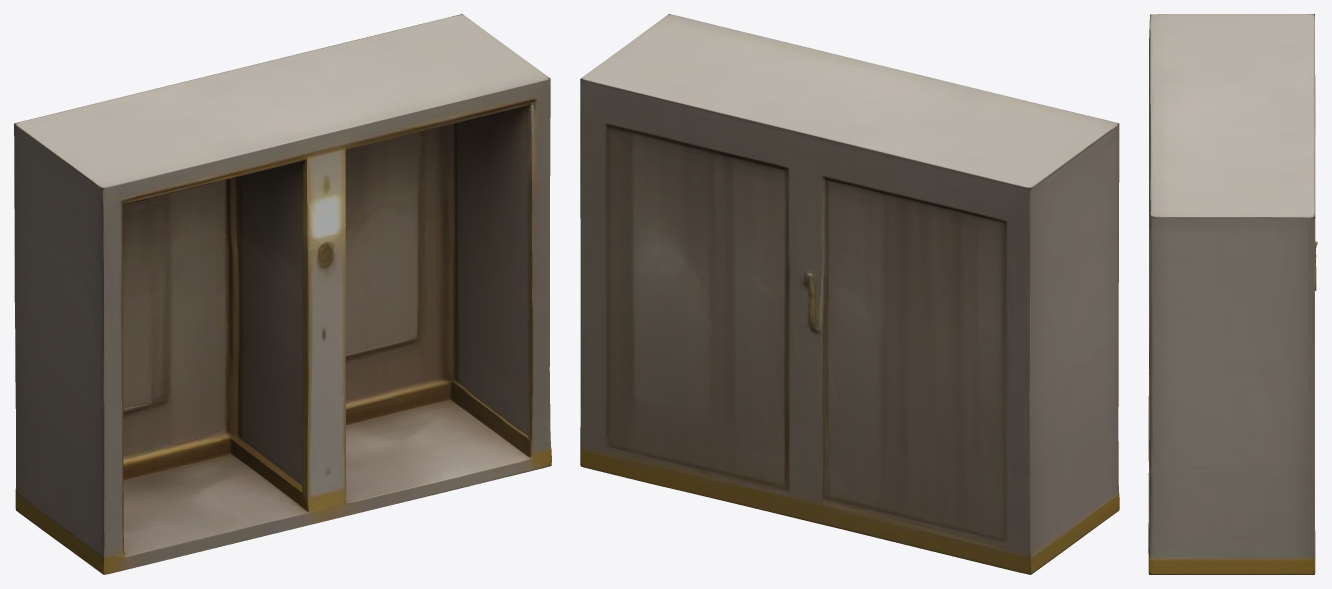
File: shelf_display_open_beige.glb
3 views of the same model, side by side, from view 1: azimuth 30°, elevation 25°; view 2: azimuth 150°, elevation 25°; view 3: azimuth 270°, elevation 25° (orthographic). The views are drawn at different scales.
Visible parts, largest first — view 1: geometry_0; view 2: geometry_0; view 3: geometry_0.
Boxes of the visible parts, bbox=[...] form: geometry_0: bbox=[14, 14, 551, 574]; geometry_0: bbox=[580, 14, 1119, 574]; geometry_0: bbox=[1148, 14, 1317, 574].
Bounding box in the file's own units: 1 × 0.8228 × 0.3516.
Materials: 1 (1 with a texture image).
